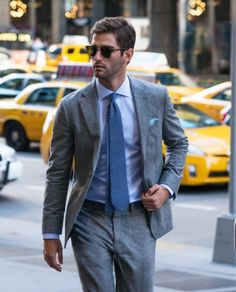Person: (41, 16, 191, 292)
